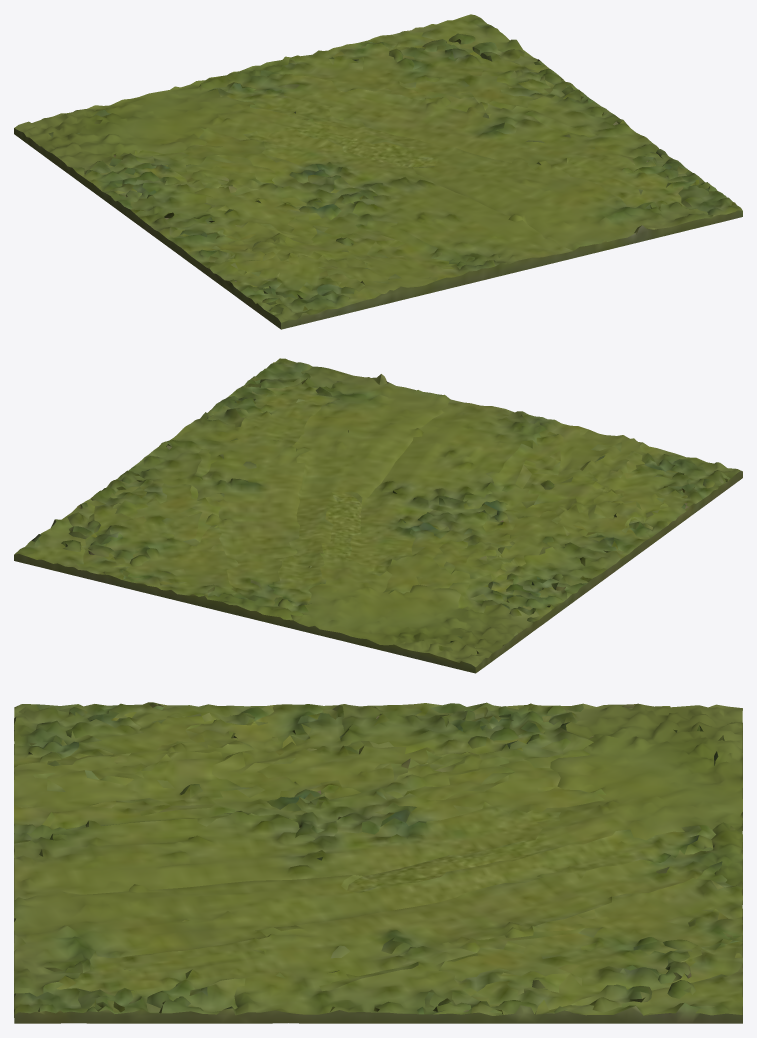
Rendered from foothills_lite.glb.
3 views of the same model, one above another, from view 1: azimuth 30°, elevation 25°; view 2: azimuth 150°, elevation 25°; view 3: azimuth 270°, elevation 25° (orthographic). The views are drawn at different scales.
Visible parts, largest first — view 1: geometry_0; view 2: geometry_0; view 3: geometry_0.
Part boxes in pixels (x1,y1,x2,y2): geometry_0: [14, 14, 742, 329]; geometry_0: [14, 358, 742, 673]; geometry_0: [14, 702, 742, 1023].
Size of the model in its own units: 1.9 by 0.0641 by 1.9.
1 material, 1 textured.
